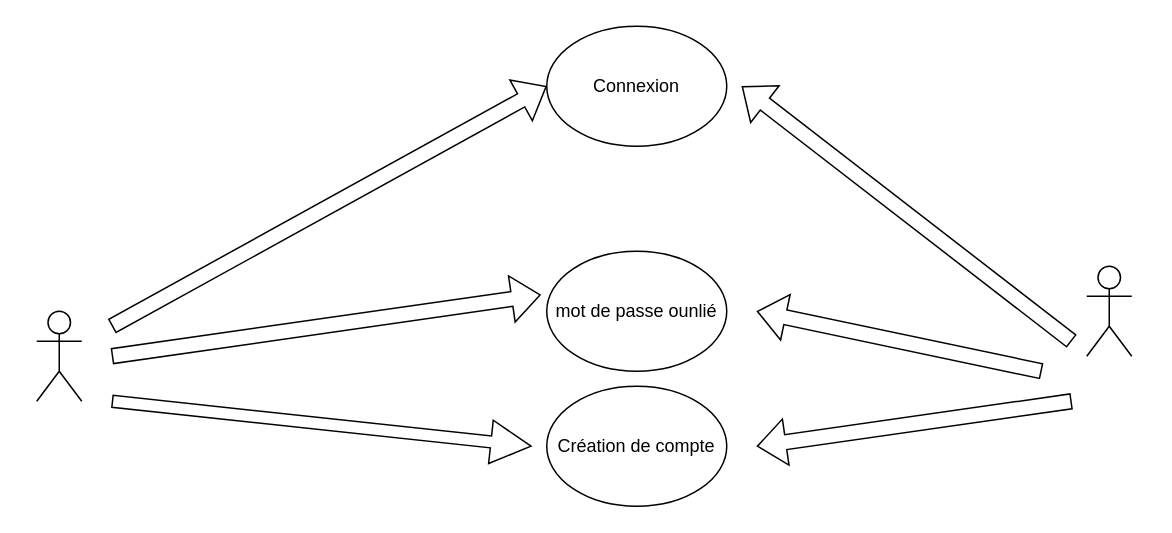
The diagram is 1172 pixels wide and 533 high, and some of its shapes have lost their labels. The box of each missing label's shape, as (x1, y1, x2, y2) in pixels:
Bénévole: (1085, 265, 1132, 356)
Etudiant: (35, 310, 82, 401)
